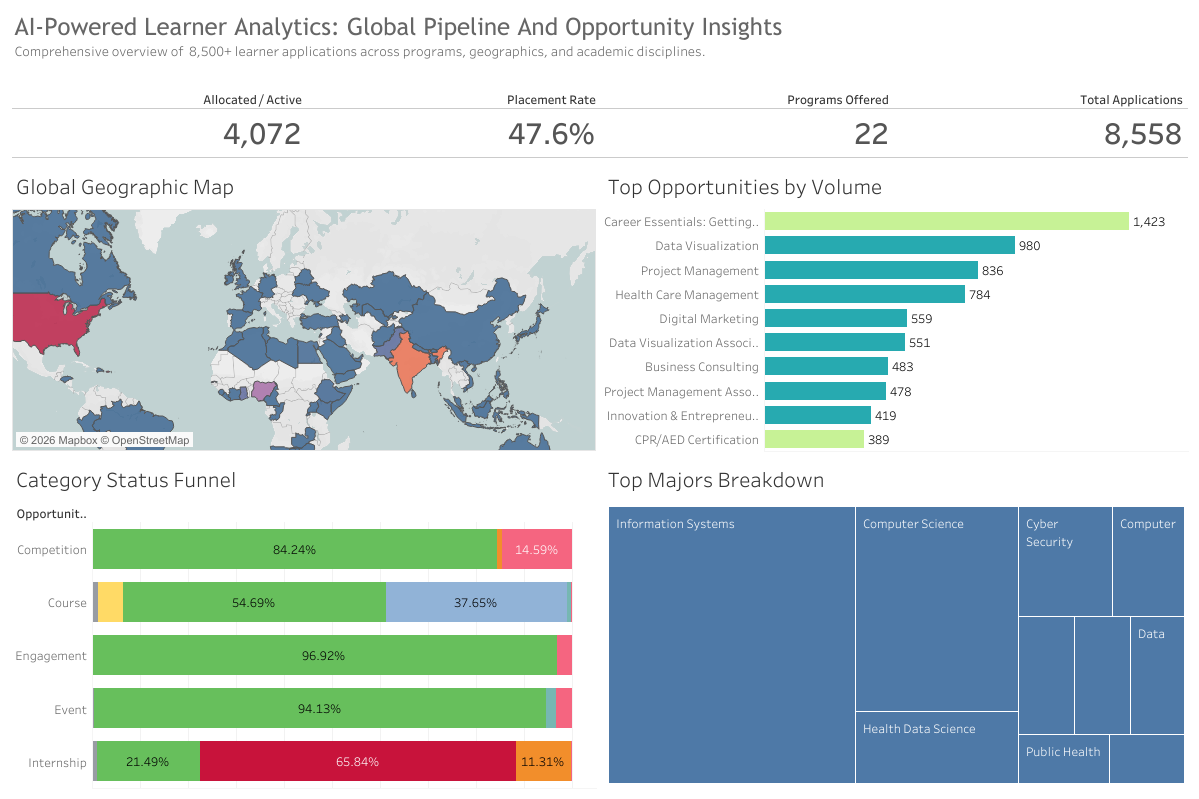

What the dashboard file says about the page in this screenshot:
{"tool":"tableau","page":{"name":"Global Learner & Opportunity Insights","canvas":[1200,800],"ordinal":0},"visuals":[{"type":"text","box":[8,8,1184,54]},{"type":"worksheet","title":"KPI Banner","mark":"Automatic","box":[8,62,1184,98]},{"type":"worksheet","title":"Global Geographic Map","mark":"Multipolygon","box":[8,160,592,295]},{"type":"worksheet","title":"Top Opportunities by Volume","mark":"Automatic","rows":["Opportunity Name"],"cols":["RIT.csv_CEDEA56FB55F4246963D4E93CED905AB"],"box":[600,160,592,295]},{"type":"worksheet","title":"Category Status Funnel","mark":"Automatic","rows":["Opportunity Category"],"box":[8,455,592,337]},{"type":"worksheet","title":"Top Majors Breakdown","mark":"Automatic","box":[600,455,592,337]}]}

Visuals, with their boxes in screenshot pixels (x1, y1, x2, y2), scaled from the page's 1200x800 canvas onto the 1199x799 screenshot:
text: [left=8, top=8, right=1191, bottom=62]
"KPI Banner" worksheet: [left=8, top=62, right=1191, bottom=160]
"Global Geographic Map" worksheet (Multipolygon marks): [left=8, top=160, right=600, bottom=454]
"Top Opportunities by Volume" worksheet: [left=600, top=160, right=1191, bottom=454]
"Category Status Funnel" worksheet: [left=8, top=454, right=600, bottom=791]
"Top Majors Breakdown" worksheet: [left=600, top=454, right=1191, bottom=791]
